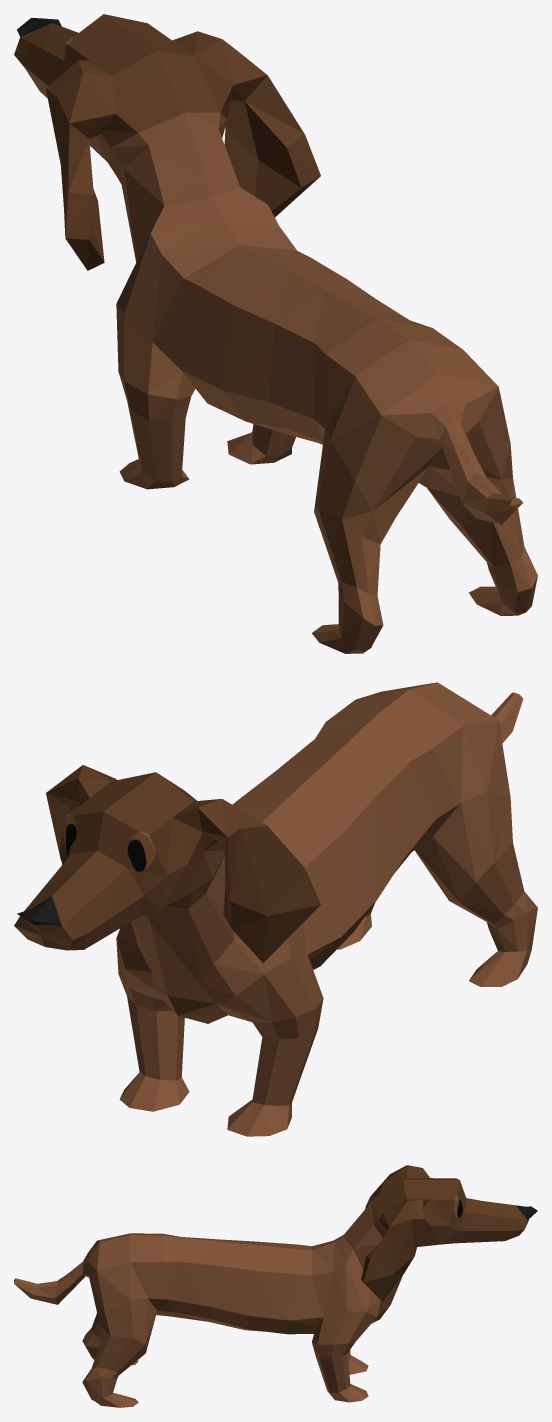
The model's file is mrWeenie.fbx.
The picture shows the model from 3 angles, top to bottom: view 1: azimuth 30°, elevation 25°; view 2: azimuth 150°, elevation 25°; view 3: azimuth 270°, elevation 25°; orthographic projection. The views are drawn at different scales.
Visible parts, largest first — view 1: mrweenietri; view 2: mrweenietri; view 3: mrweenietri.
Part boxes in pixels (x1,y1,x2,y2): mrweenietri: (14,14,537,653); mrweenietri: (14,682,537,1136); mrweenietri: (14,1165,537,1407).
Size of the model in its own units: 18.5 by 25.92 by 60.85.
